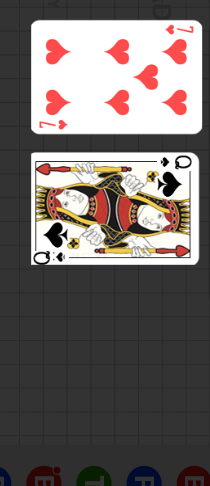7H: (164, 22, 196, 36)
